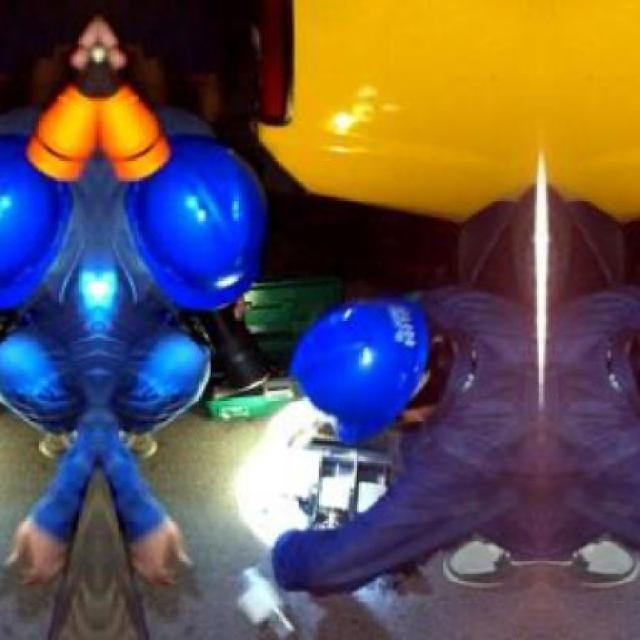con casco: (287, 293, 489, 465), (106, 124, 274, 304)
